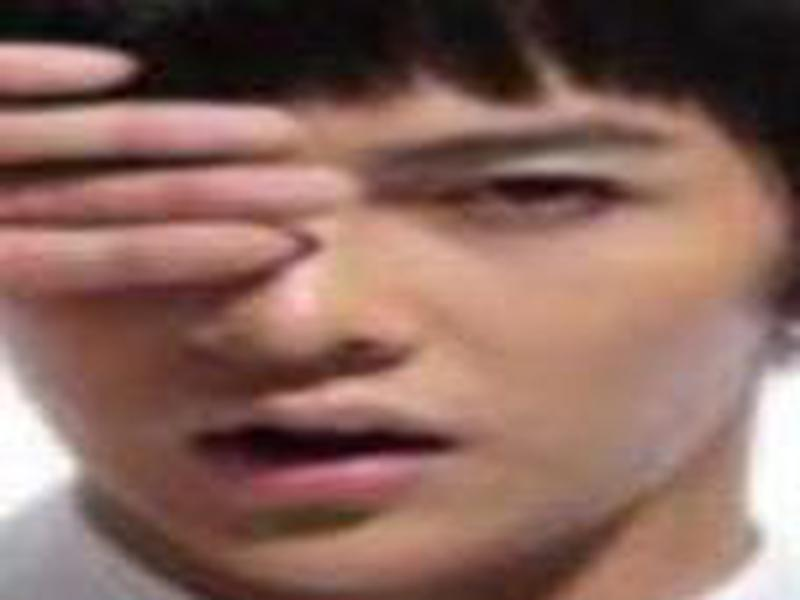without_mask: (1, 77, 767, 597)
